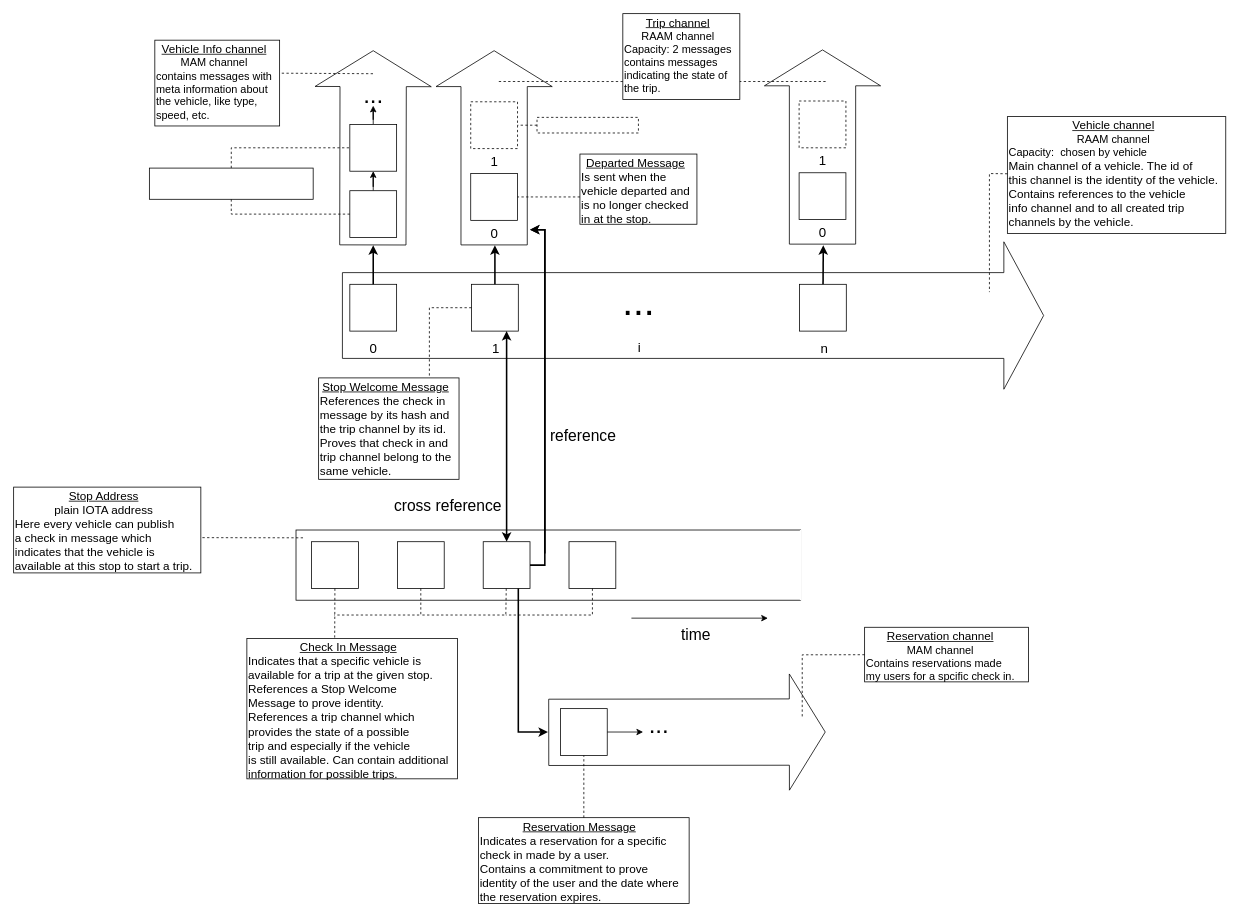
This 1239x918 diagram has some shape labels left out. The box of each missing label's shape, as (x1, y1, x2, y2) in pixels:
currently unused: (536, 117, 638, 133)
Message adding or removing information about the vehicle: (149, 167, 313, 199)
